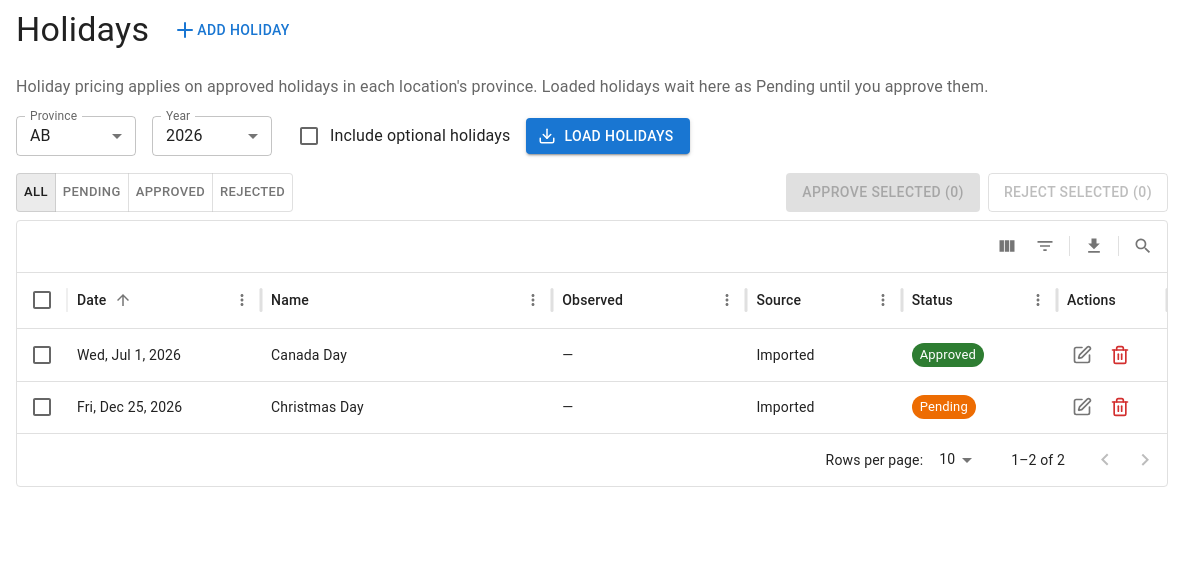
Test: HolidayManagement › shows why loading failed
expect the text "Christmas Day" is shown: met, box [261, 381, 552, 433]
Click the button "Load holidays" at coordinates (608, 136), box [526, 118, 690, 154]
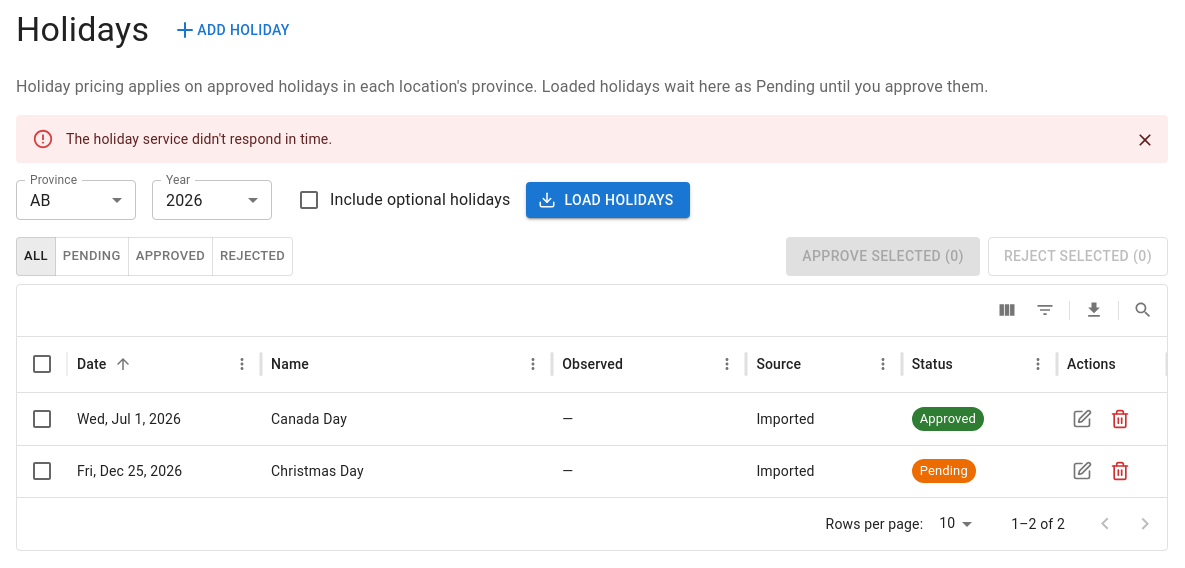
expect the text "The holiday service didn't respond in time." is shown: met, box [66, 131, 332, 147]
